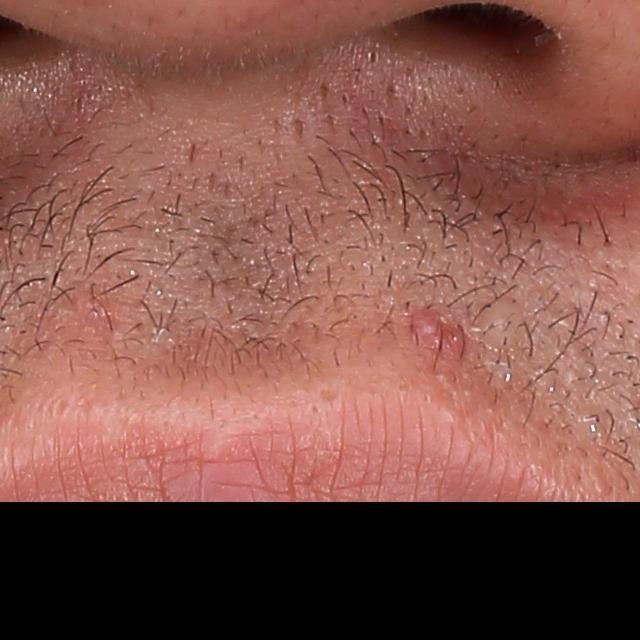papule: (394, 306, 472, 366)
